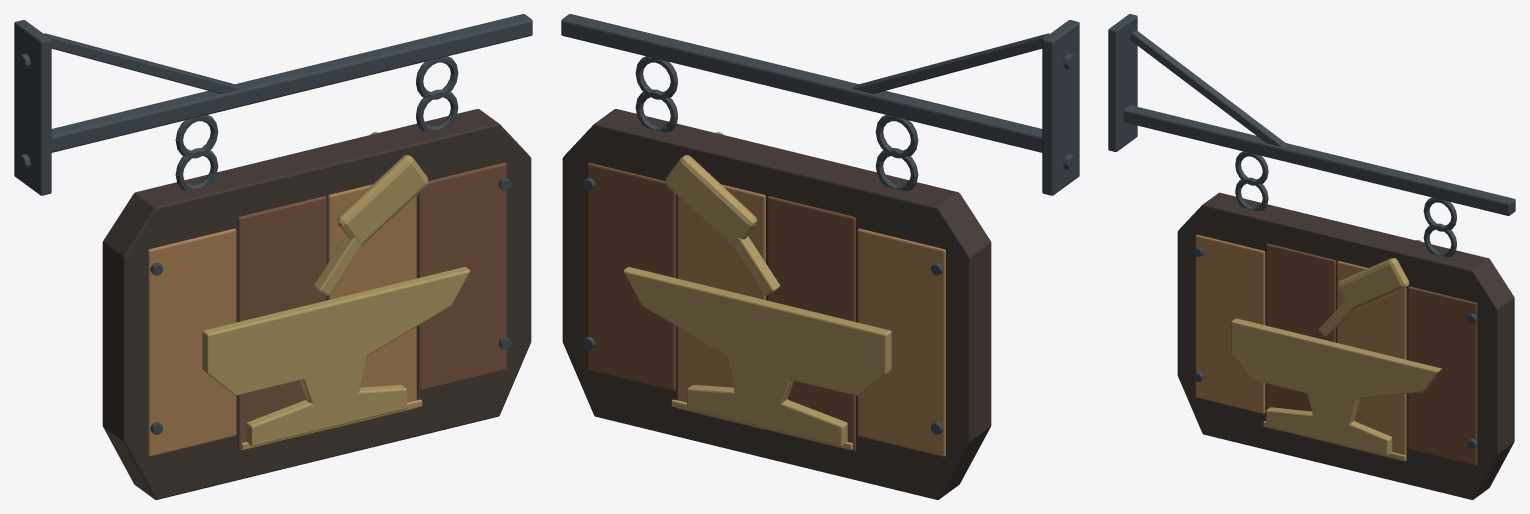
Rendered from smithy_trade_sign.glb.
3 renders of one model, left to right at view 1: azimuth 30°, elevation 25°; view 2: azimuth 150°, elevation 25°; view 3: azimuth 330°, elevation 25°, orthographic. The views are drawn at different scales.
Parts seen in each view (by area): view 1: Carved dark timber rim.001, Anvil emblem, Recessed sign board.007, Recessed sign board.004, Forged hanging arm.001, Recessed sign board.005, Recessed sign board.006, Wall bracket plate.001, Hammer head, Bracket diagonal.001, Hammer handle, Suspension eye.003 (+3 smaller); view 2: Carved dark timber rim.001, Anvil emblem.001, Recessed sign board.007, Recessed sign board.004, Forged hanging arm.001, Recessed sign board.005, Recessed sign board.006, Wall bracket plate.001, Hammer head.001, Bracket diagonal.001, Hammer handle.001, Suspension eye.003 (+3 smaller); view 3: Carved dark timber rim.001, Anvil emblem, Recessed sign board.007, Recessed sign board.004, Forged hanging arm.001, Recessed sign board.005, Recessed sign board.006, Wall bracket plate.001, Bracket diagonal.001, Hammer head, Suspension eye.003, Suspension eye.002 (+3 smaller).
Boxes of the visible parts, <box> form: Carved dark timber rim.001: <box>102,109,531,499</box>; Anvil emblem: <box>202,267,470,446</box>; Recessed sign board.007: <box>418,162,506,390</box>; Recessed sign board.004: <box>148,228,236,456</box>; Forged hanging arm.001: <box>51,14,532,152</box>; Recessed sign board.005: <box>238,196,326,451</box>; Recessed sign board.006: <box>328,184,416,429</box>; Wall bracket plate.001: <box>14,20,51,195</box>; Hammer head: <box>336,155,428,245</box>; Bracket diagonal.001: <box>44,33,241,93</box>; Hammer handle: <box>313,236,363,295</box>; Suspension eye.003: <box>416,89,458,132</box>; Carved dark timber rim.001: <box>562,109,991,499</box>; Anvil emblem.001: <box>623,267,891,446</box>; Recessed sign board.007: <box>587,162,675,390</box>; Recessed sign board.004: <box>857,228,945,456</box>; Forged hanging arm.001: <box>561,14,1042,152</box>; Recessed sign board.005: <box>767,196,855,451</box>; Recessed sign board.006: <box>677,184,765,429</box>; Wall bracket plate.001: <box>1042,20,1079,195</box>; Hammer head.001: <box>665,155,757,245</box>; Bracket diagonal.001: <box>852,33,1049,93</box>; Hammer handle.001: <box>730,236,780,295</box>; Suspension eye.003: <box>635,89,677,132</box>; Carved dark timber rim.001: <box>1177,192,1514,499</box>; Anvil emblem: <box>1231,318,1441,455</box>; Recessed sign board.007: <box>1408,286,1477,465</box>; Recessed sign board.004: <box>1195,234,1265,413</box>; Forged hanging arm.001: <box>1123,105,1515,215</box>; Recessed sign board.005: <box>1266,243,1335,444</box>; Recessed sign board.006: <box>1337,261,1406,461</box>; Wall bracket plate.001: <box>1108,14,1137,151</box>; Bracket diagonal.001: <box>1129,30,1287,146</box>; Hammer head: <box>1337,258,1409,310</box>; Suspension eye.003: <box>1423,223,1456,257</box>; Suspension eye.002: <box>1235,177,1268,211</box>.
Size of the model in its own units: 1.27 by 1.17 by 0.168.
